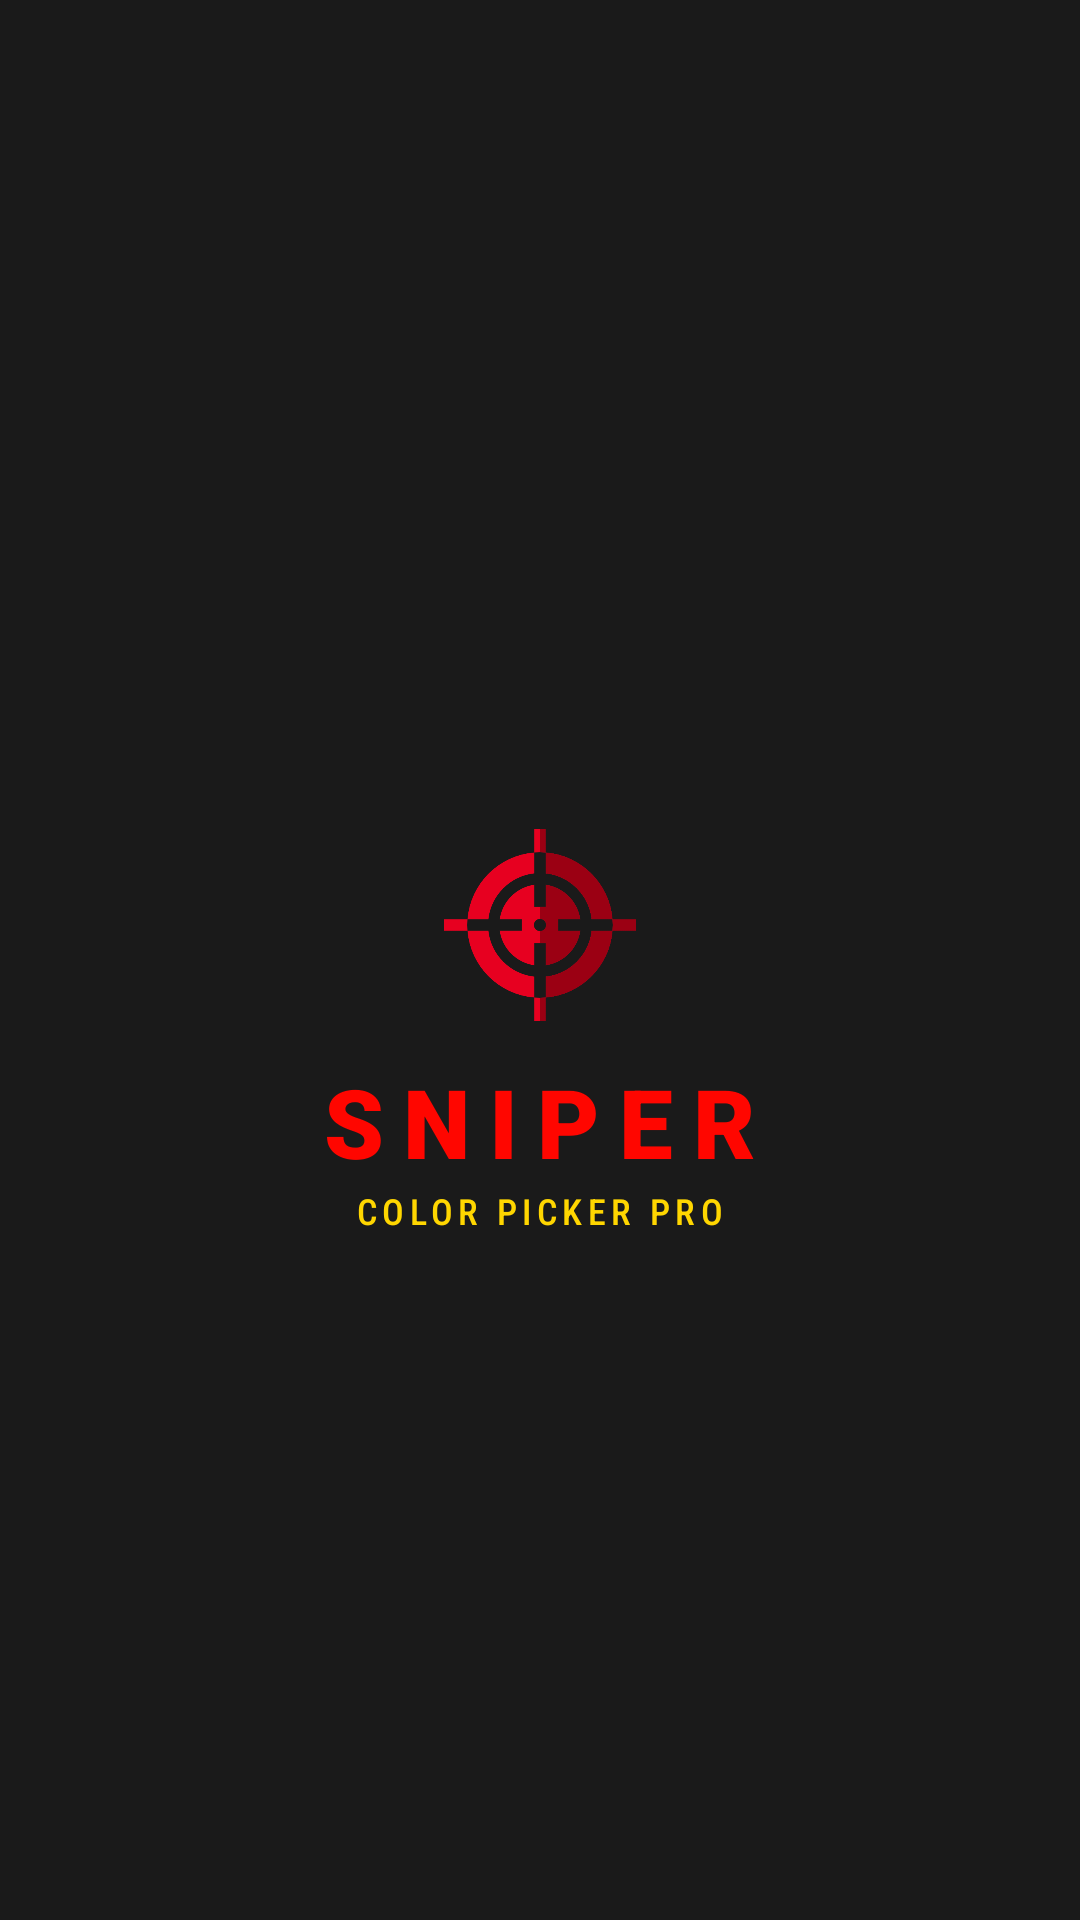

Point at icon controls on the screen. Image size 1080x1920, points as (x,y).
App Icon: (540,925)
